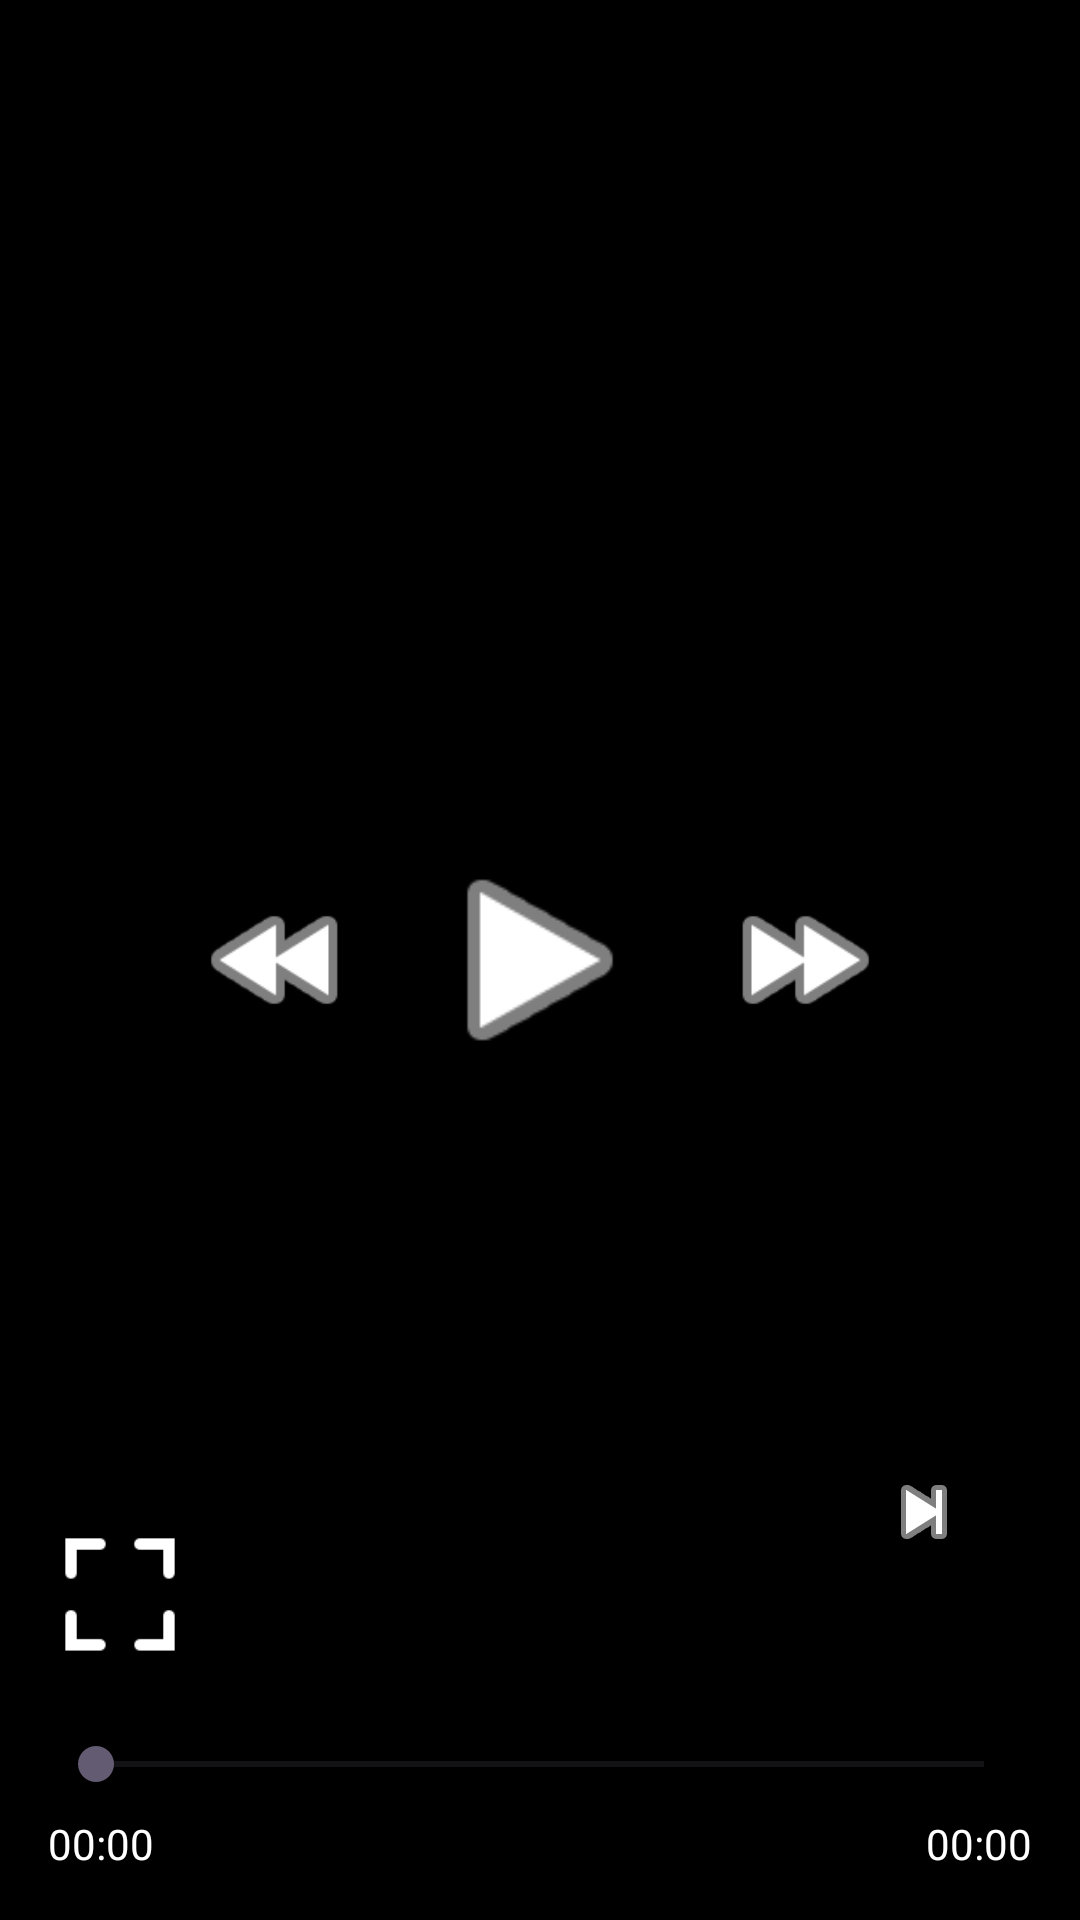

Screen size 1080px×1920px. Icon name, then its center in pixels as (x,y):
Forward 10 seconds: (805,960)
Fullscreen: (120,1594)
Next video: (924,1512)
Play/Pause: (540,960)
Rewind 10 seconds: (274,960)
